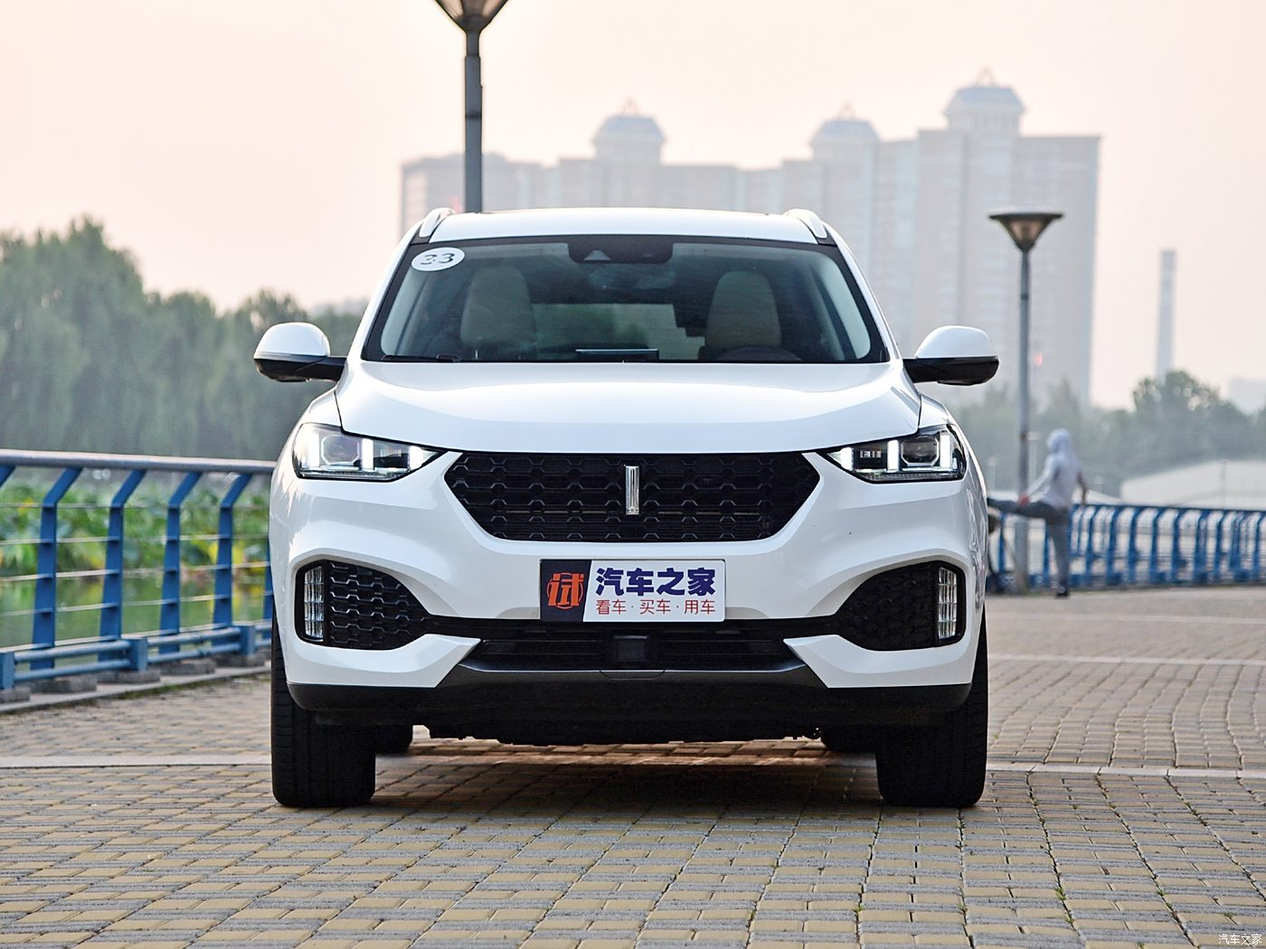WEY: (626, 466, 638, 514)
